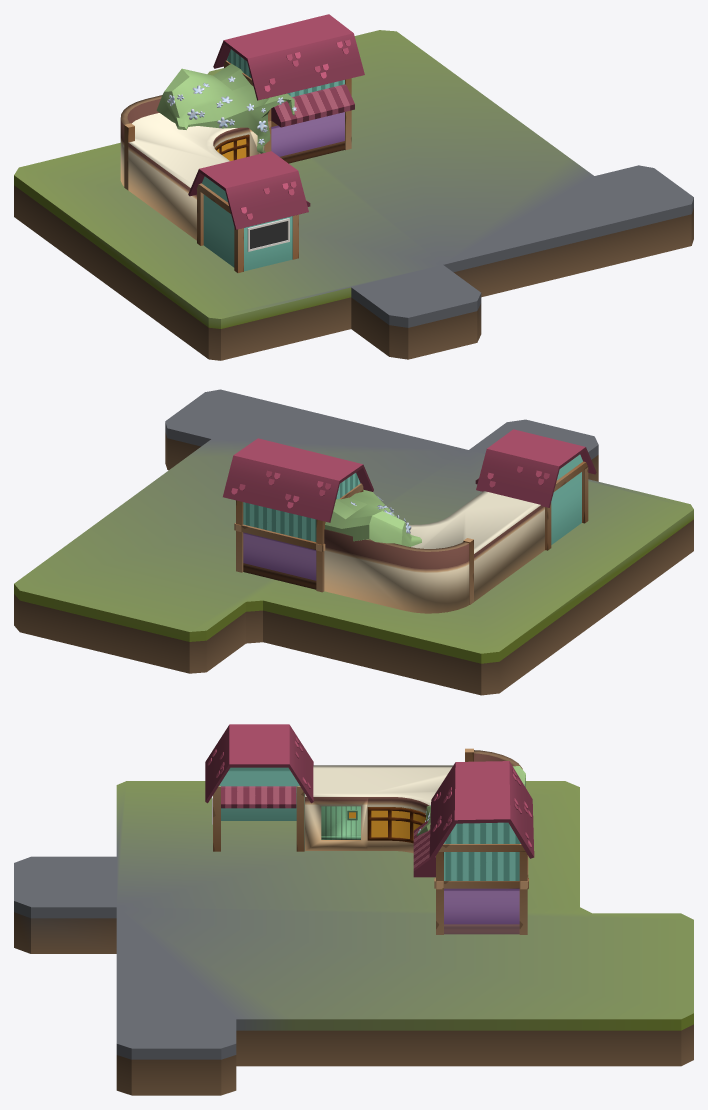
The model's file is cutepack2023newislandbase.fbx.
3 views of the same model, one above another, from view 1: azimuth 30°, elevation 25°; view 2: azimuth 150°, elevation 25°; view 3: azimuth 270°, elevation 25° (orthographic). The views are drawn at different scales.
Visible parts, largest first — view 1: Cube.019, Cube.270, Cube.316, Cube.290, Cube.321, Plane.012, Plane.001, Plane.003, Cube.300, Sphere.356, Plane.066; view 2: Cube.019, Cube.270, Cube.316, Cube.321, Cube.290, Plane.001, Plane.066, Plane.012, Plane.063, Plane.058, Plane.038; view 3: Cube.019, Cube.270, Cube.316, Cube.321, Plane.066, Plane.001, Plane.012, Plane.011, Cube.292, Cube.005, Plane.003, Cube.006 (+5 smaller).
Part boxes in pixels (<box>): Cube.019: <box>14,30,693,360</box>; Cube.270: <box>120,95,264,240</box>; Cube.316: <box>213,14,364,100</box>; Cube.290: <box>156,63,294,153</box>; Cube.321: <box>188,151,308,229</box>; Plane.012: <box>202,176,292,271</box>; Plane.001: <box>271,112,344,163</box>; Plane.003: <box>271,84,354,127</box>; Cube.300: <box>247,218,289,251</box>; Sphere.356: <box>167,76,296,145</box>; Plane.066: <box>226,49,344,96</box>; Cube.019: <box>14,389,693,695</box>; Cube.270: <box>324,491,544,613</box>; Cube.316: <box>223,438,373,522</box>; Cube.321: <box>476,429,596,507</box>; Cube.290: <box>325,489,421,546</box>; Plane.001: <box>243,532,316,589</box>; Plane.066: <box>243,473,360,541</box>; Plane.012: <box>551,454,582,544</box>; Plane.063: <box>234,523,325,551</box>; Plane.058: <box>316,519,325,592</box>; Plane.038: <box>236,500,243,572</box>; Cube.019: <box>14,781,693,1095</box>; Cube.270: <box>305,750,522,853</box>; Cube.316: <box>429,761,534,859</box>; Cube.321: <box>205,724,313,803</box>; Plane.066: <box>444,822,520,880</box>; Plane.001: <box>444,888,519,934</box>; Plane.012: <box>219,767,304,850</box>; Plane.011: <box>221,786,296,808</box>; Cube.292: <box>321,806,360,839</box>; Cube.005: <box>371,810,425,839</box>; Plane.003: <box>413,821,435,877</box>; Cube.006: <box>367,807,425,843</box>.
Size of the model in its own units: 5179 by 1519 by 5561.
